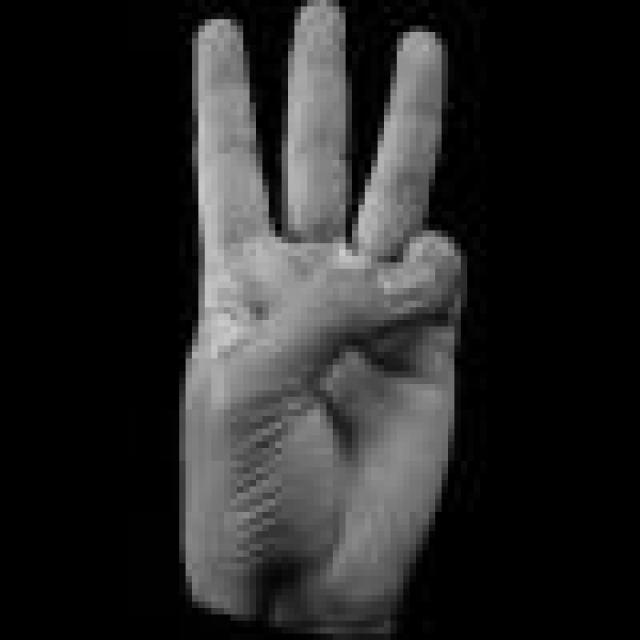W: (173, 0, 480, 614)
